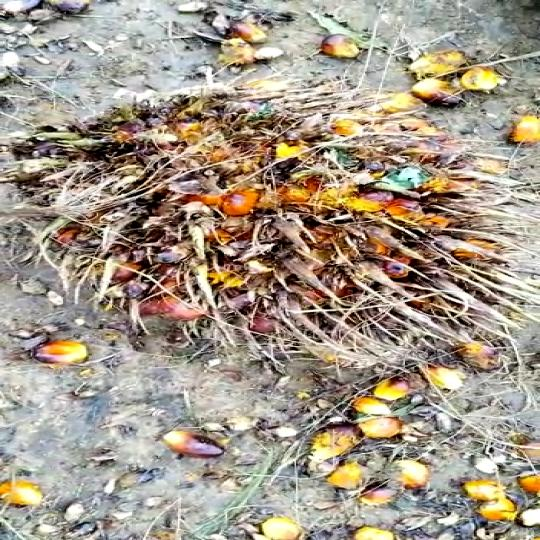terlalu masak: (0, 83, 540, 375)
